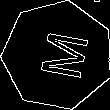M_W: (28, 28, 87, 83)
